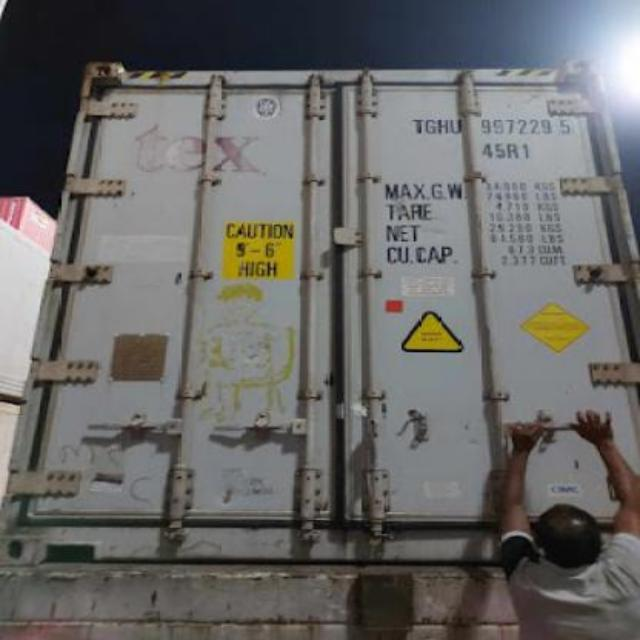2: (526, 114, 542, 138), (514, 114, 528, 138)
5: (560, 113, 572, 137)
7: (504, 113, 516, 137)
9: (540, 115, 556, 142), (476, 114, 494, 136), (492, 116, 504, 140)
G: (426, 114, 438, 136)
H: (434, 114, 450, 136)
T: (411, 112, 424, 142)
U: (448, 113, 462, 137)
